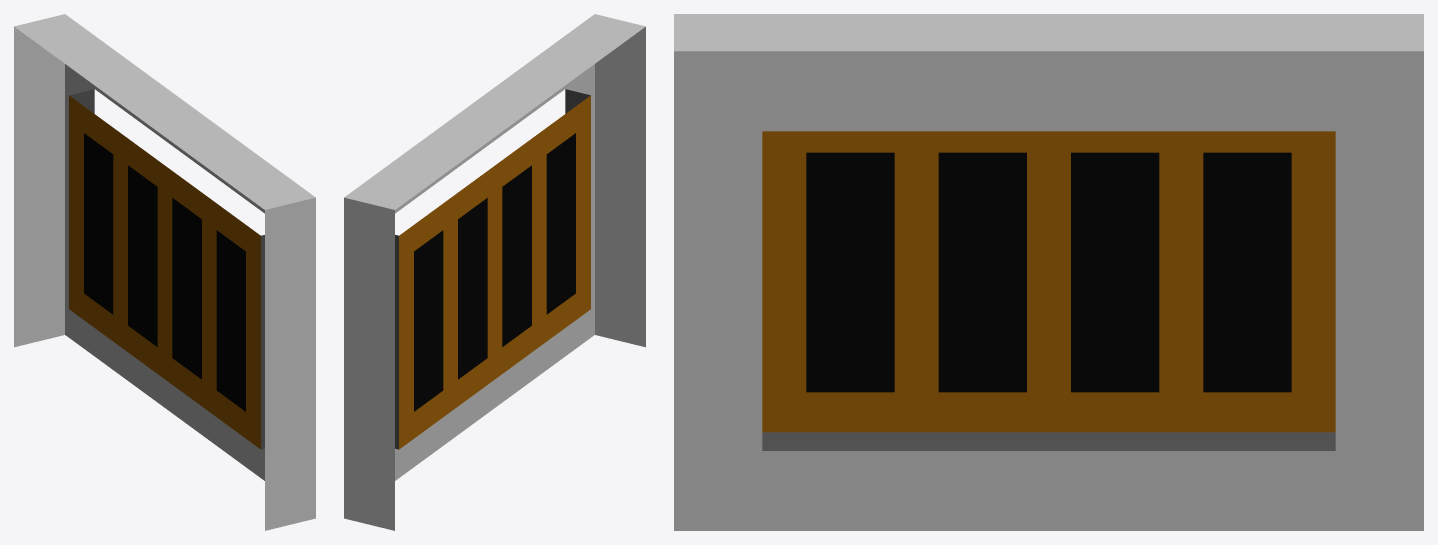
File: wallgrill.obj
3 views of the same model, side by side, from view 1: azimuth 30°, elevation 25°; view 2: azimuth 150°, elevation 25°; view 3: azimuth 270°, elevation 25° (orthographic). The views are drawn at different scales.
Visible parts, largest first — view 1: wallgrill_back; view 2: wallgrill_back; view 3: wallgrill_back.
Part boxes in pixels (x1,y1,x2,y2): wallgrill_back: (14, 14, 315, 530); wallgrill_back: (344, 14, 645, 530); wallgrill_back: (674, 14, 1423, 530).
Bounding box in the file's own units: 0.08 × 0.48 × 0.68.
